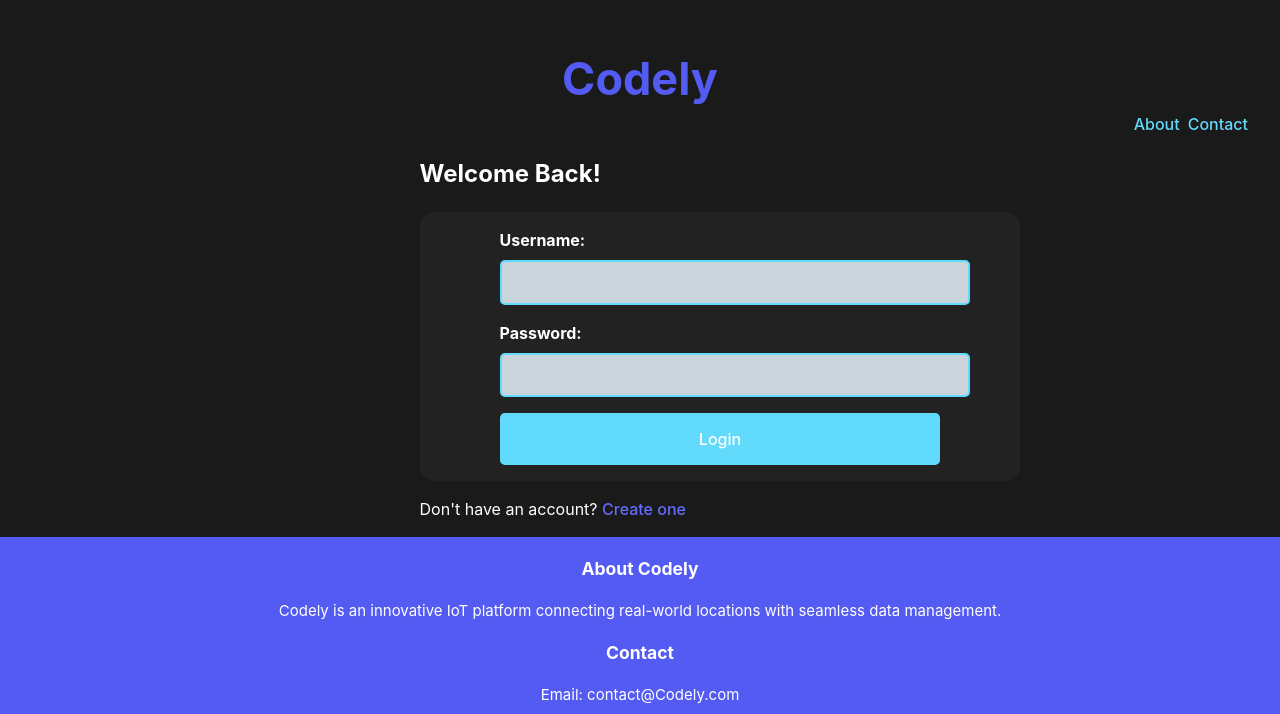
Scenario: LoginPage › shows error message when incorrect password is entered
Type "user1" into the field labelled "Username:" at (735, 282), box [500, 260, 970, 305]
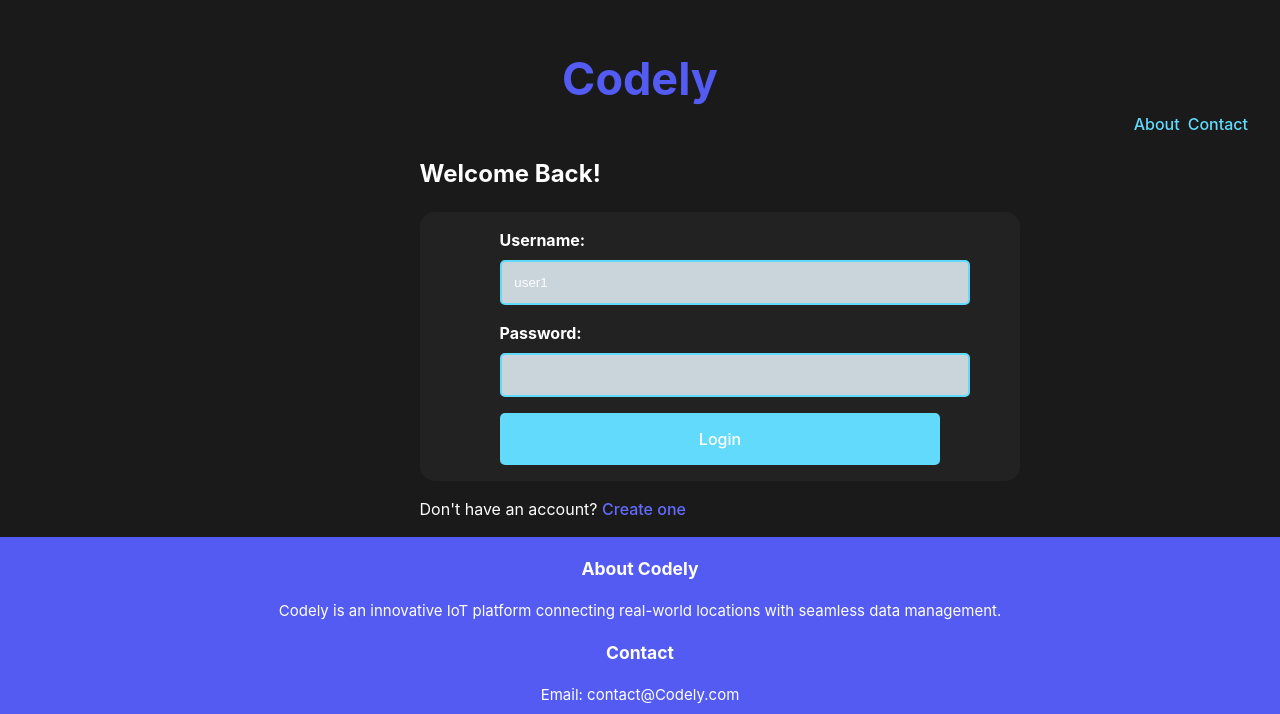
Type "wrongPassword" into the password field labelled "Password:" at (735, 375), box [500, 353, 970, 397]
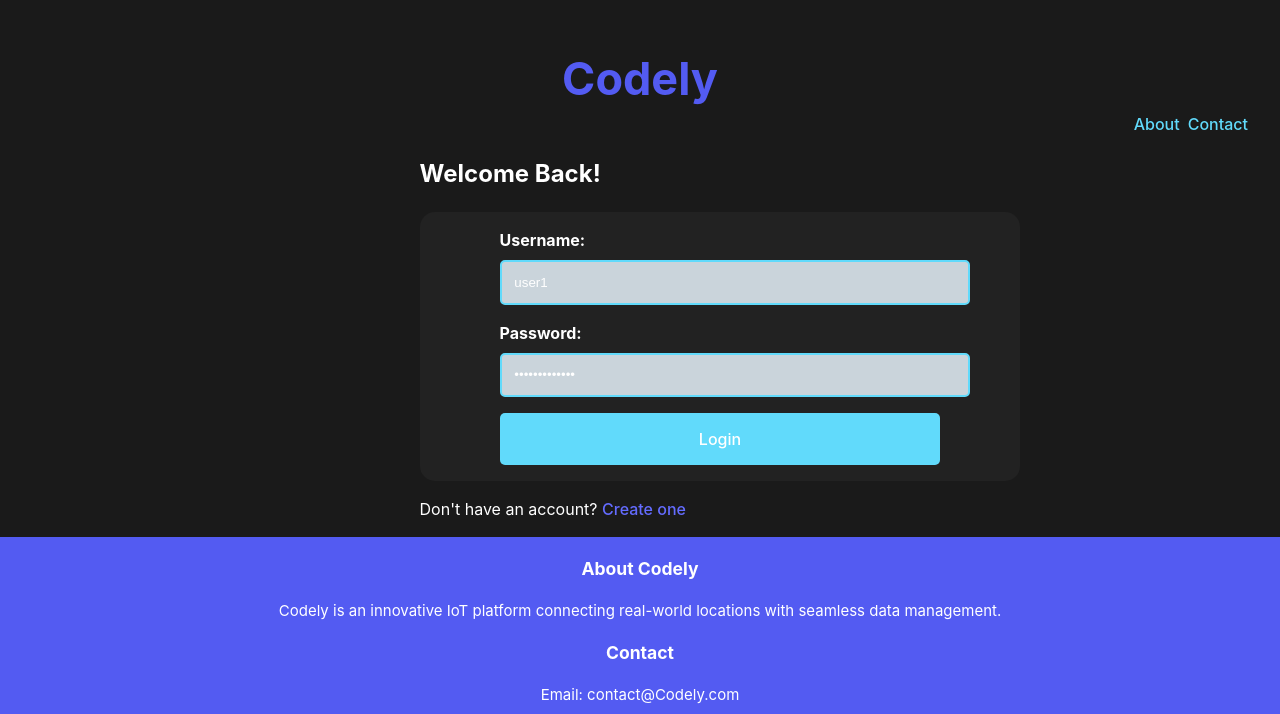
Click the button "Login" at (720, 439), box [500, 413, 940, 465]
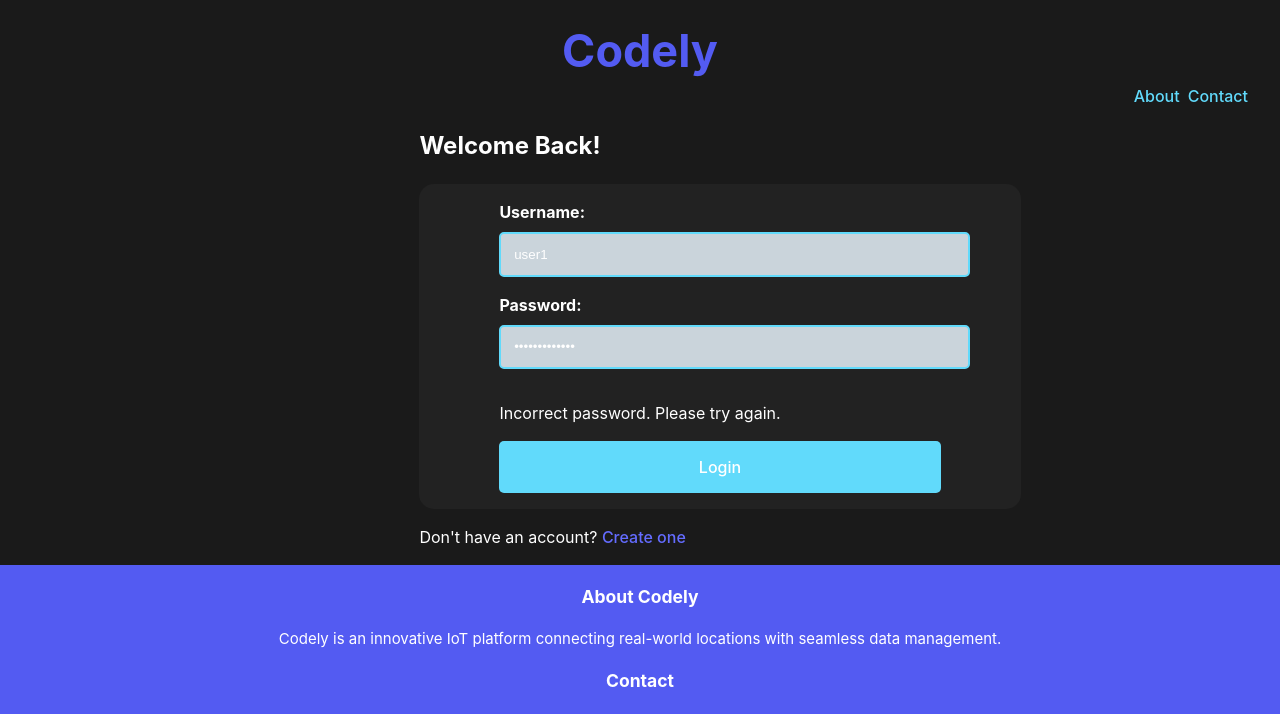
Expected: the text "Incorrect password. Please try again." is shown, [499, 403, 781, 423]
